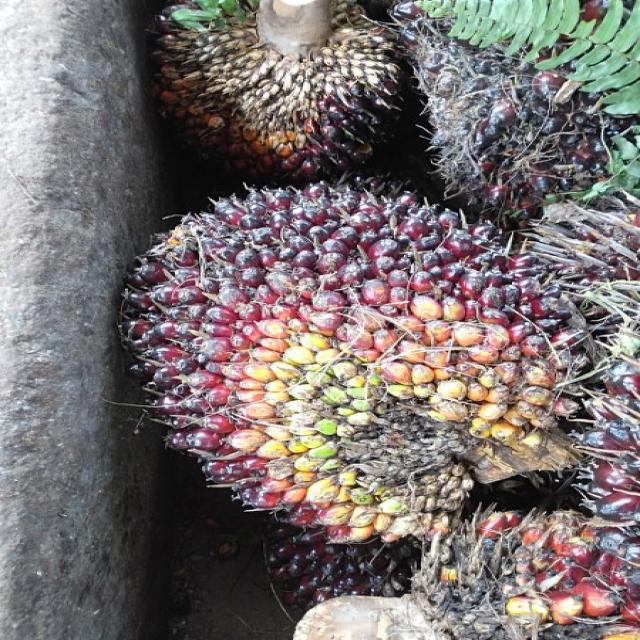fraksi 1: (94, 185, 596, 539)
